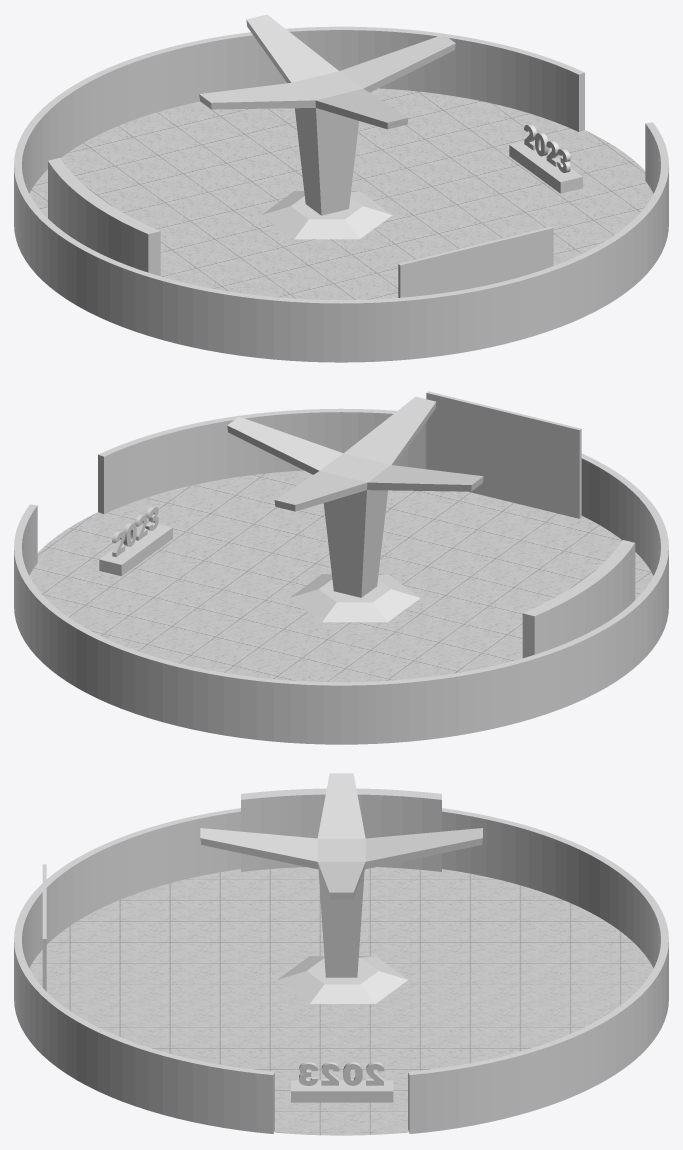
Rendered from exhibition_update6.glb.
3 views of the same model, one above another, from view 1: azimuth 30°, elevation 25°; view 2: azimuth 150°, elevation 25°; view 3: azimuth 270°, elevation 25° (orthographic).
Parts seen in each view (by area): view 1: MainFrame, Ground, Pillar, Screen0, Screen1, Table1, Table0, Text2023; view 2: Ground, MainFrame, Pillar, Screen0, Screen1, Table1, Table0, Text2023; view 3: Ground, MainFrame, Pillar, Screen1, Table1, Table0, Text2023, Screen0.
Boxes of the visible parts, left/top/right/bottom form: MainFrame: left=14, top=26, right=668, bottom=362; Ground: left=29, top=88, right=653, bottom=299; Pillar: left=199, top=14, right=455, bottom=215; Screen0: left=398, top=226, right=553, bottom=297; Screen1: left=48, top=158, right=160, bottom=276; Table1: left=261, top=191, right=392, bottom=239; Table0: left=509, top=141, right=582, bottom=193; Text2023: left=524, top=124, right=570, bottom=172; Ground: left=29, top=470, right=653, bottom=682; MainFrame: left=14, top=408, right=668, bottom=744; Pillar: left=227, top=396, right=483, bottom=597; Screen0: left=426, top=391, right=581, bottom=518; Screen1: left=522, top=540, right=635, bottom=658; Table1: left=289, top=574, right=420, bottom=622; Table0: left=99, top=522, right=172, bottom=576; Text2023: left=112, top=506, right=158, bottom=556; Ground: left=29, top=867, right=653, bottom=1135; MainFrame: left=14, top=808, right=668, bottom=1133; Pillar: left=200, top=773, right=482, bottom=977; Screen1: left=241, top=788, right=441, bottom=871; Table1: left=277, top=956, right=407, bottom=1003; Table0: left=291, top=1080, right=393, bottom=1102; Text2023: left=299, top=1062, right=384, bottom=1085; Screen0: left=42, top=864, right=46, bottom=991.
Size of the model in its own units: 30 by 8.05 by 30.
Materials: 2 (1 with a texture image).
